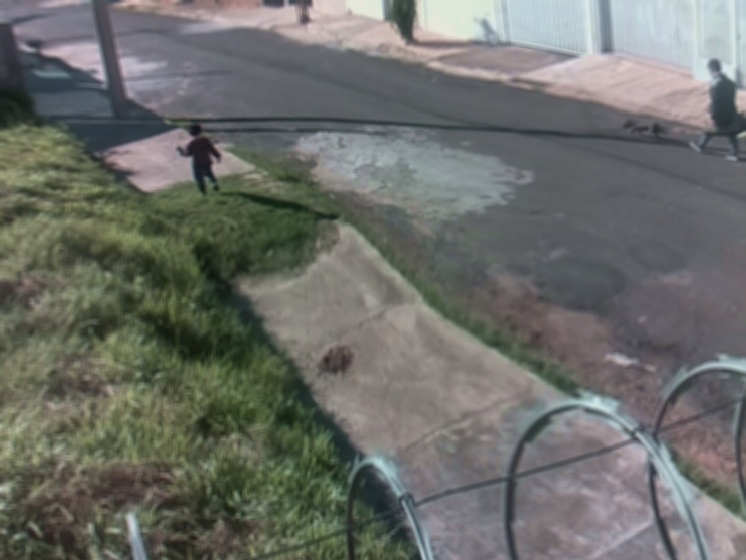person: (688, 59, 743, 163), (176, 123, 222, 198)
